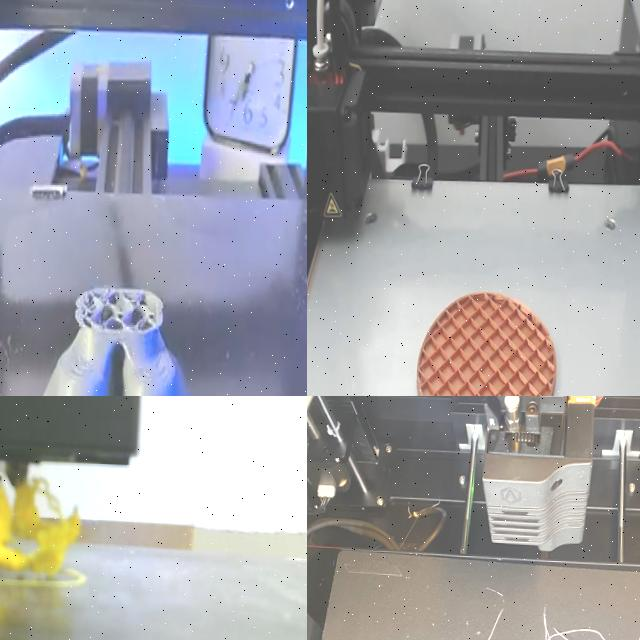spaghetti: (422, 560, 640, 640), (0, 472, 89, 588)
